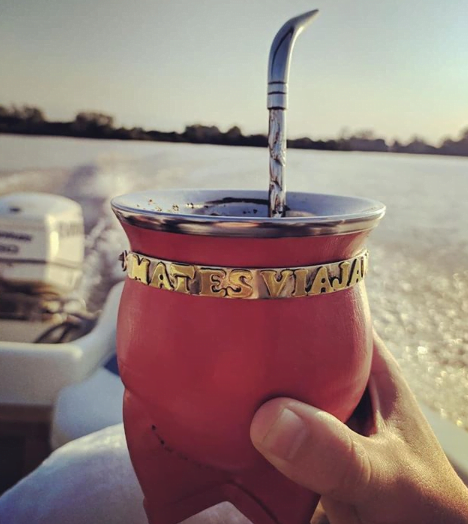madera: (103, 178, 380, 521)
mate: (105, 180, 382, 523)
